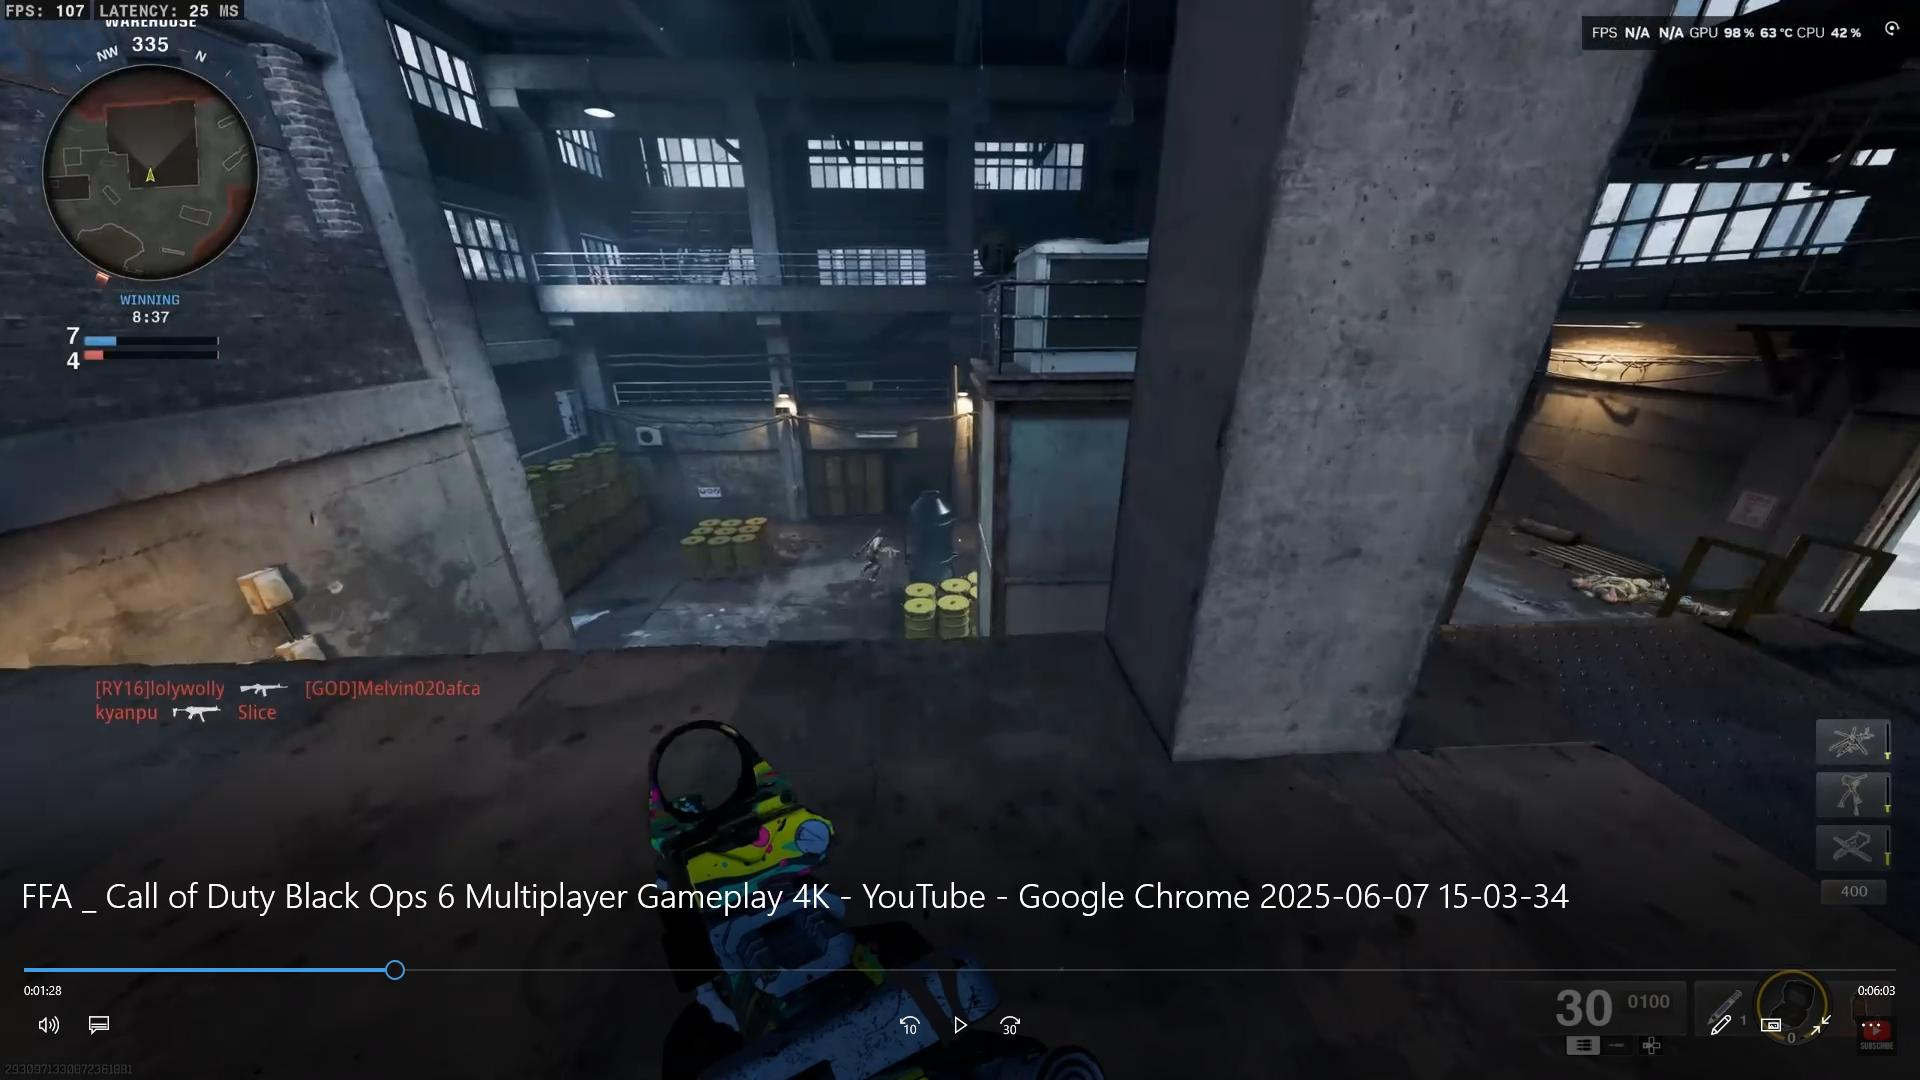Enemy: (853, 524, 898, 580)
